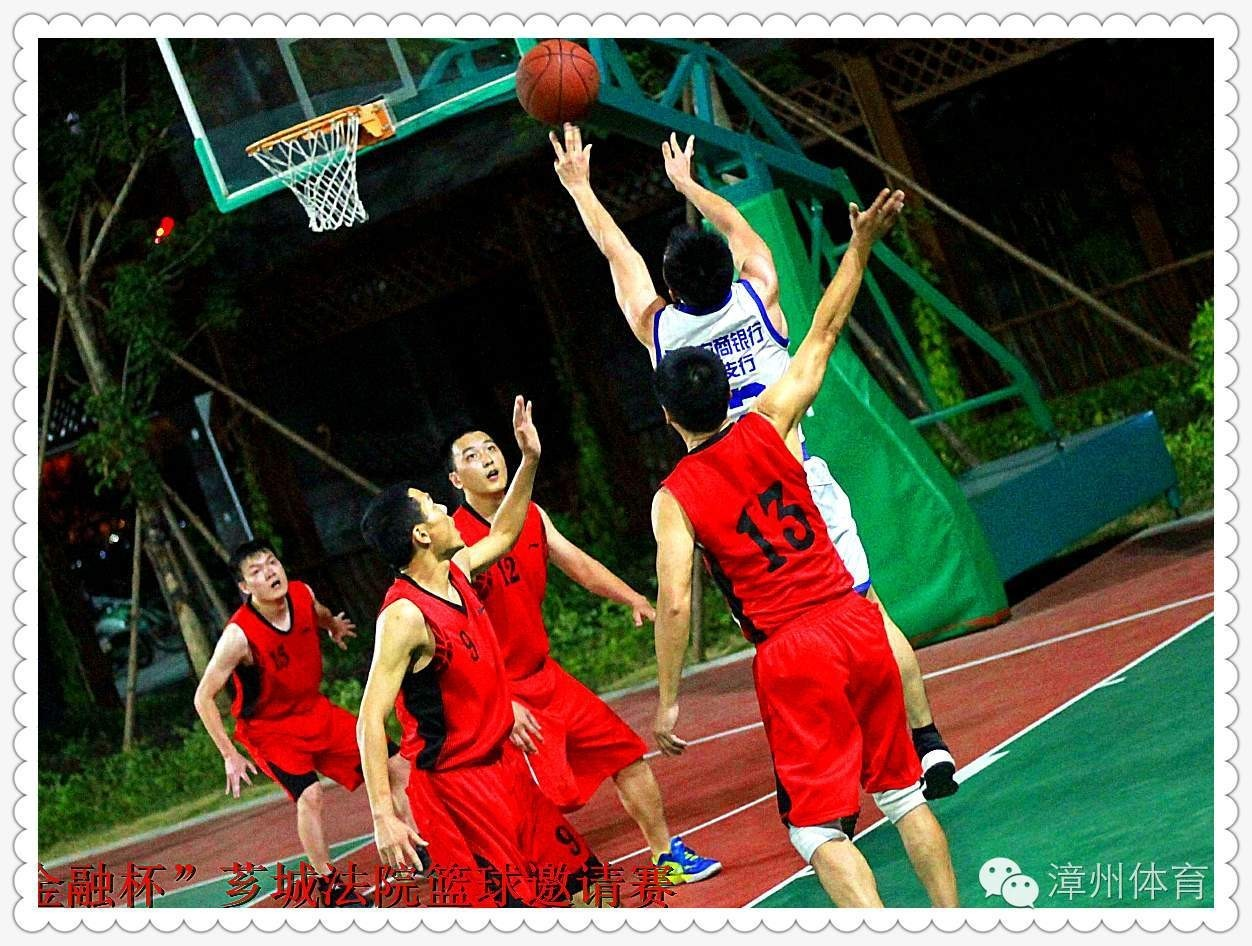ball: (514, 39, 602, 126)
